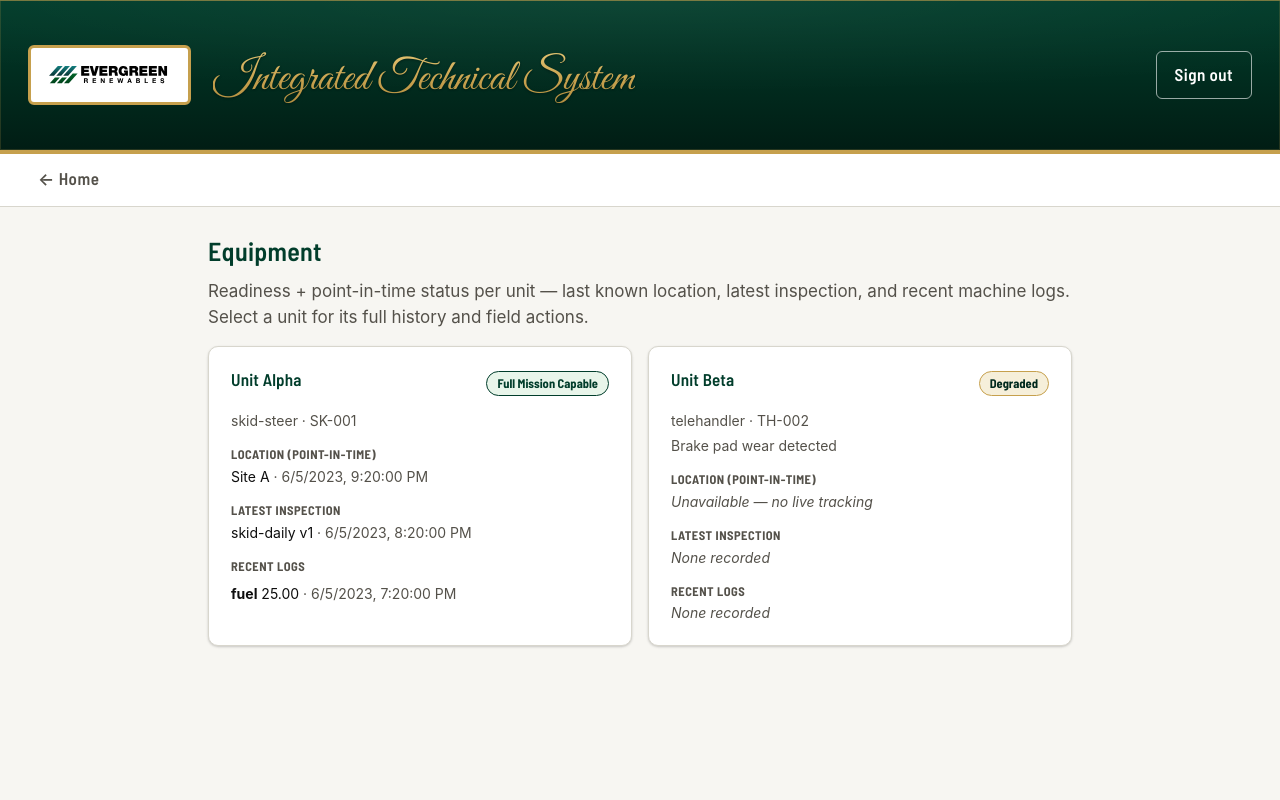
Test case: FieldOpsEquipment — dashboard view › row click opens detail
The image size is (1280, 800).
Click the button with class "dash-card--click" that starts with "Unit Alpha" at (266, 379), box x1=208 y1=346 x2=632 y2=646
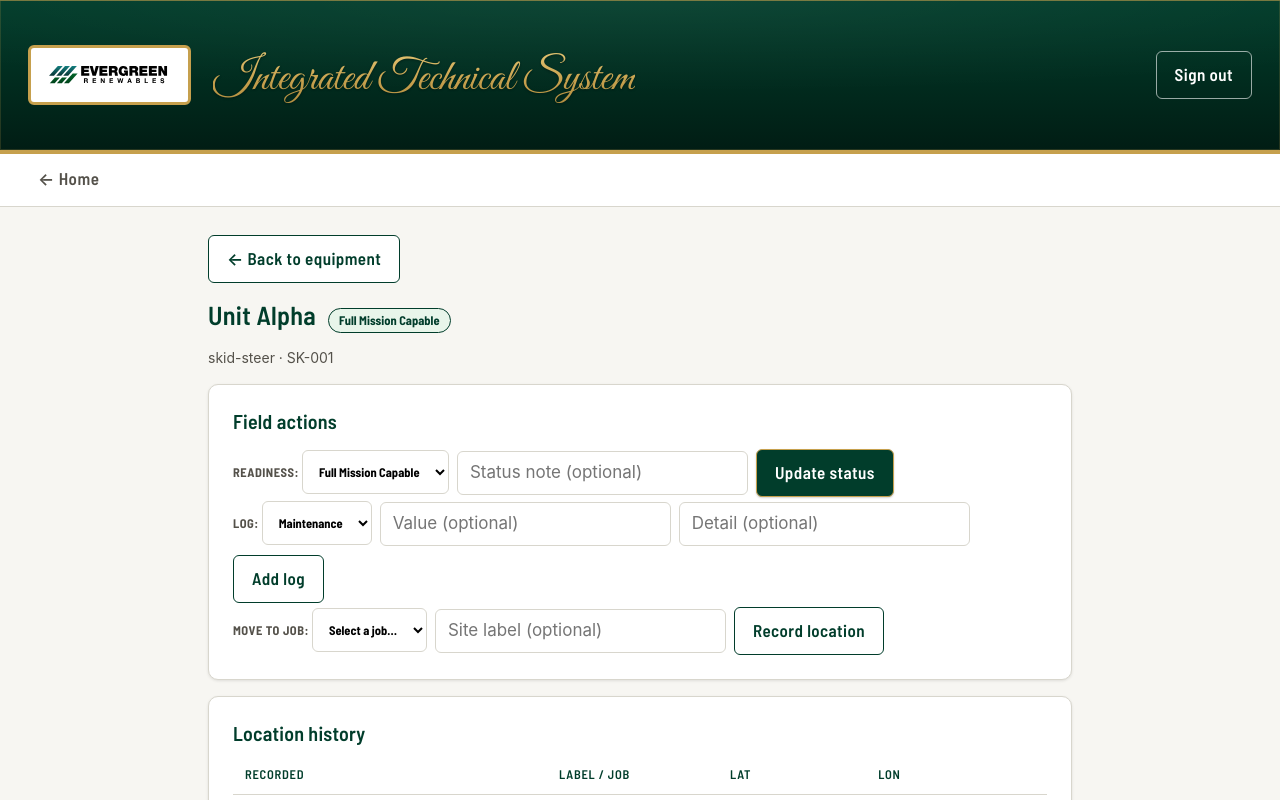
Expected: no buttons with class "dash-card--click" are shown
Expected: the heading "Unit Alpha" is shown, x1=208 y1=299 x2=316 y2=330
